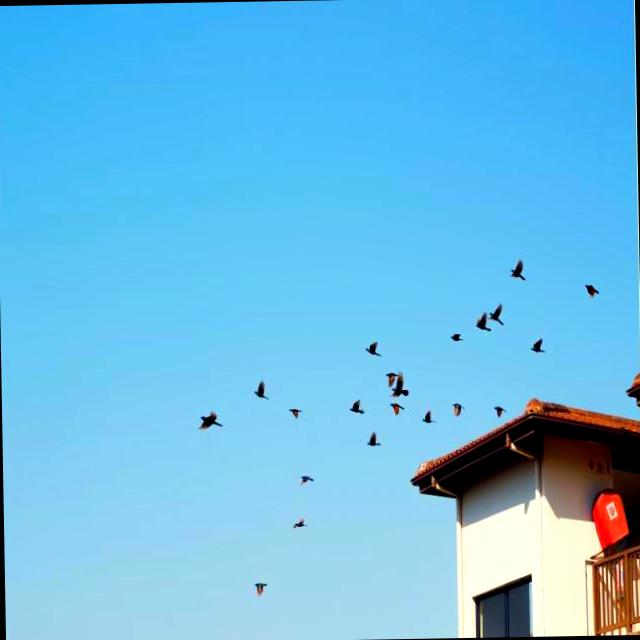bird: (194, 410, 224, 440), (247, 570, 276, 599), (248, 374, 270, 406), (488, 301, 508, 334), (508, 258, 530, 286), (470, 308, 489, 337), (344, 390, 364, 417), (283, 399, 302, 426), (581, 280, 601, 305), (288, 516, 310, 537), (362, 429, 382, 452), (364, 339, 383, 363), (528, 334, 548, 356), (390, 380, 411, 400), (384, 400, 406, 418), (299, 468, 317, 488), (450, 398, 467, 418), (448, 326, 462, 350), (489, 404, 507, 422), (420, 408, 436, 426), (385, 370, 397, 388)
